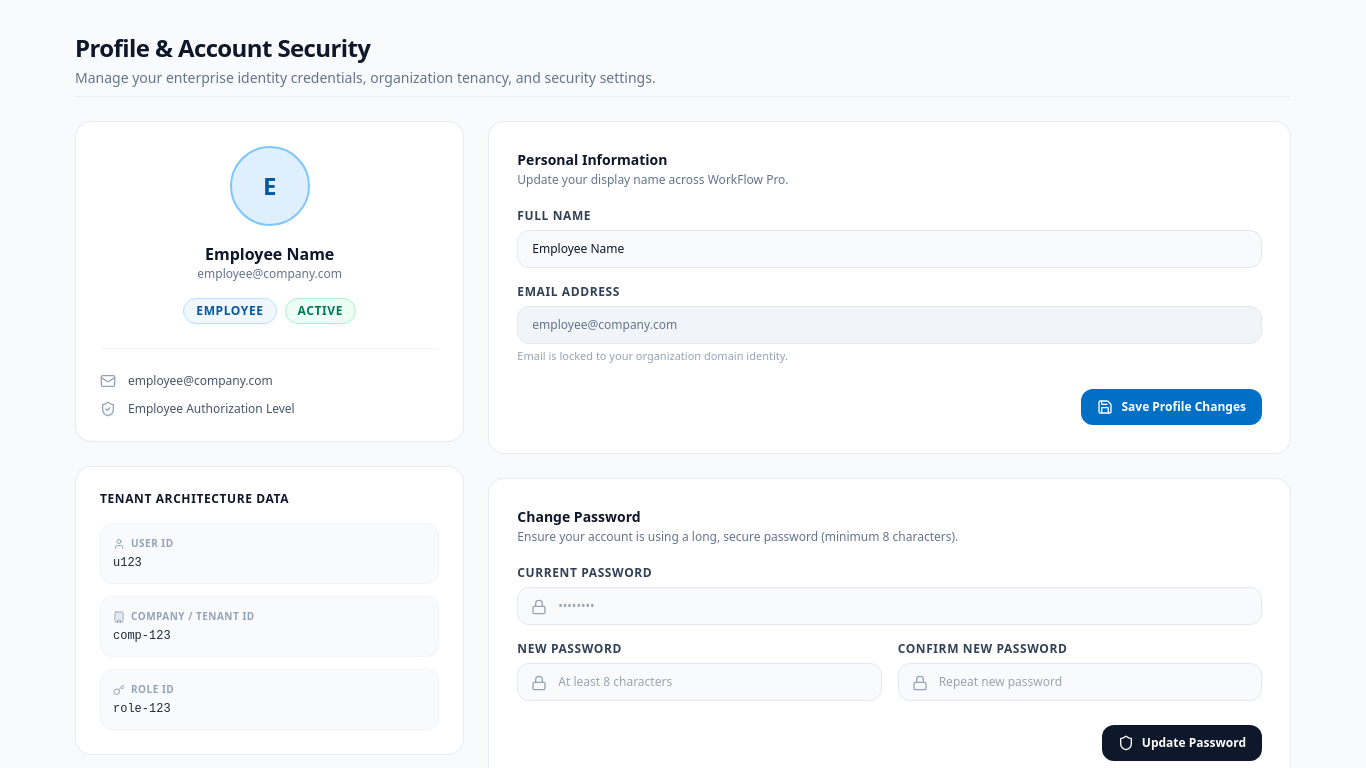
Test case: ProfilePage › validates password change mismatch
Type "Password123" into the password field with placeholder "••••••••" at (890, 606), box [517,586,1262,624]
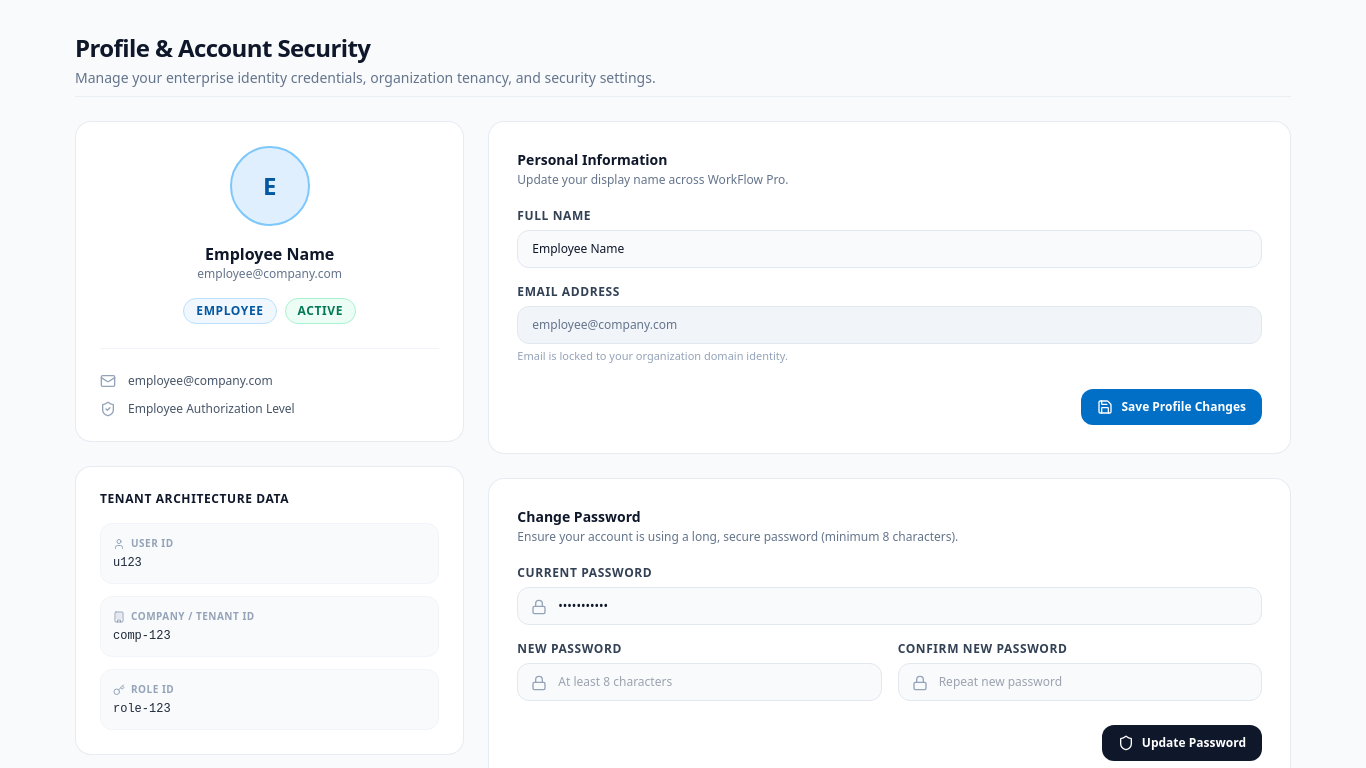
Type "NewPassword123" into the password field with placeholder "At least 8 characters" at (699, 682), box [517,662,882,700]
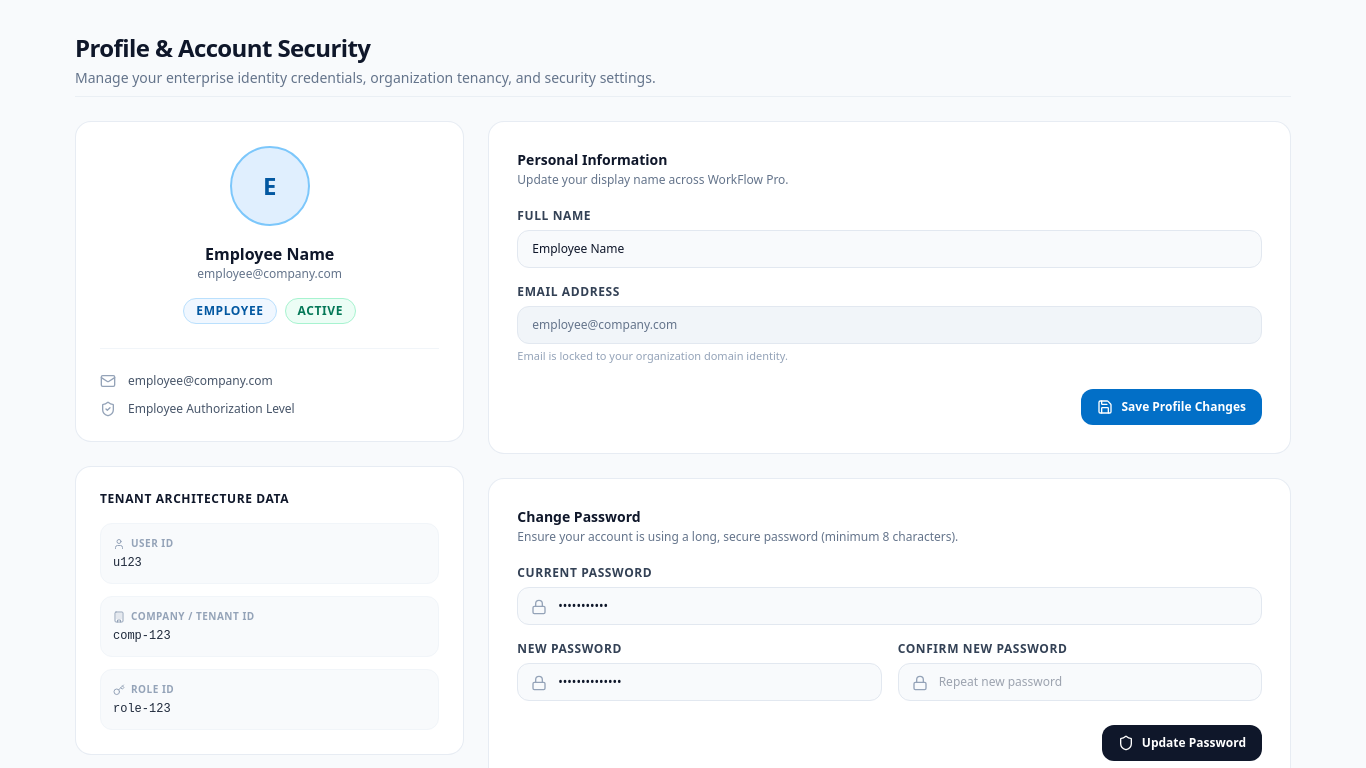
Type "MismatchPassword123" into the password field with placeholder "Repeat new password" at (1080, 682), box [898,662,1262,700]
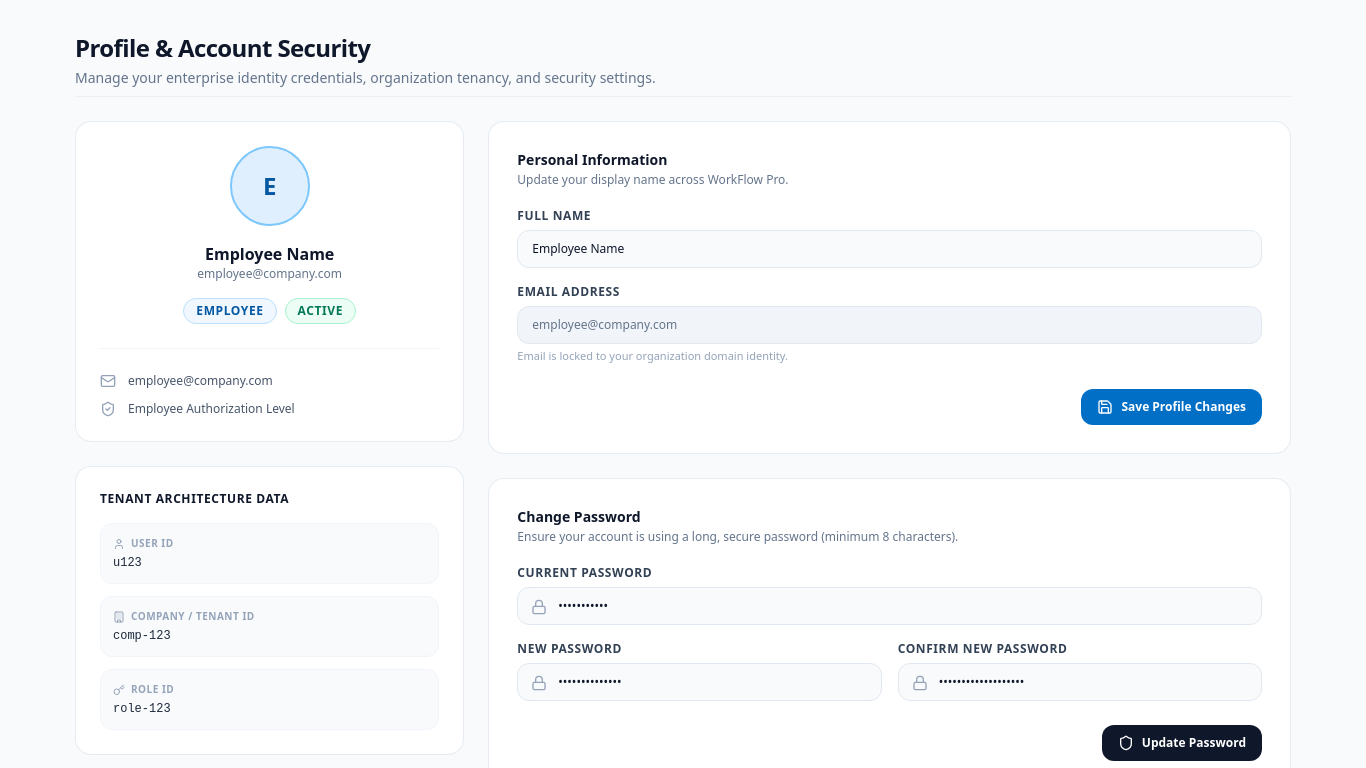
Click the button "Update Password" at (1182, 742), box [1102,724,1262,760]
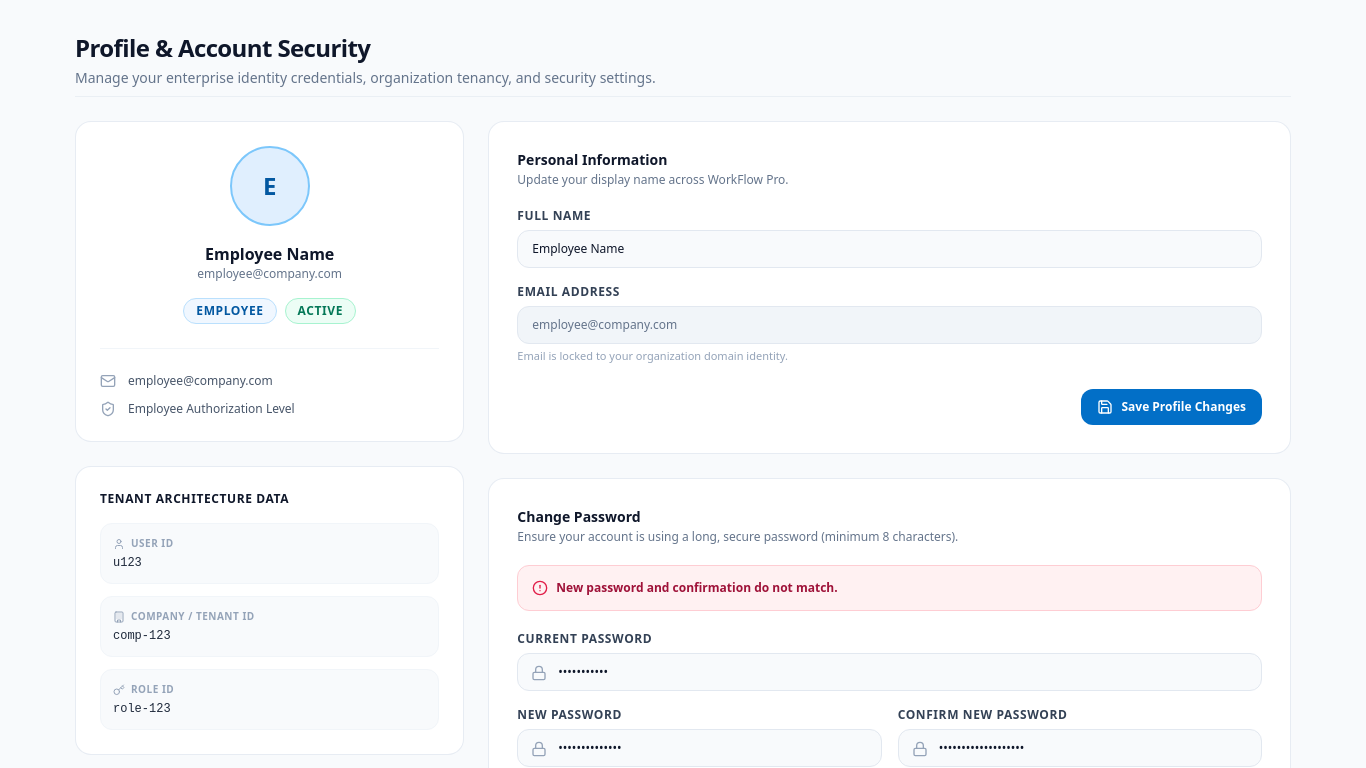
expect the text "New password and confirmation do not match." is shown: met, box [556,580,838,596]
